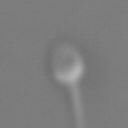normal: (54, 84, 102, 126)
